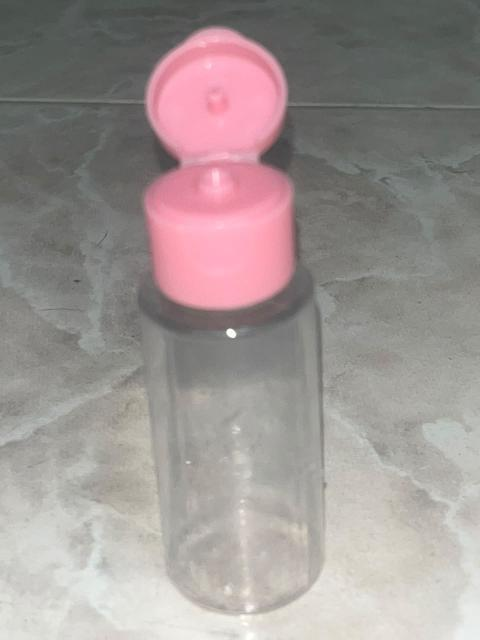PET: (95, 5, 385, 637)
